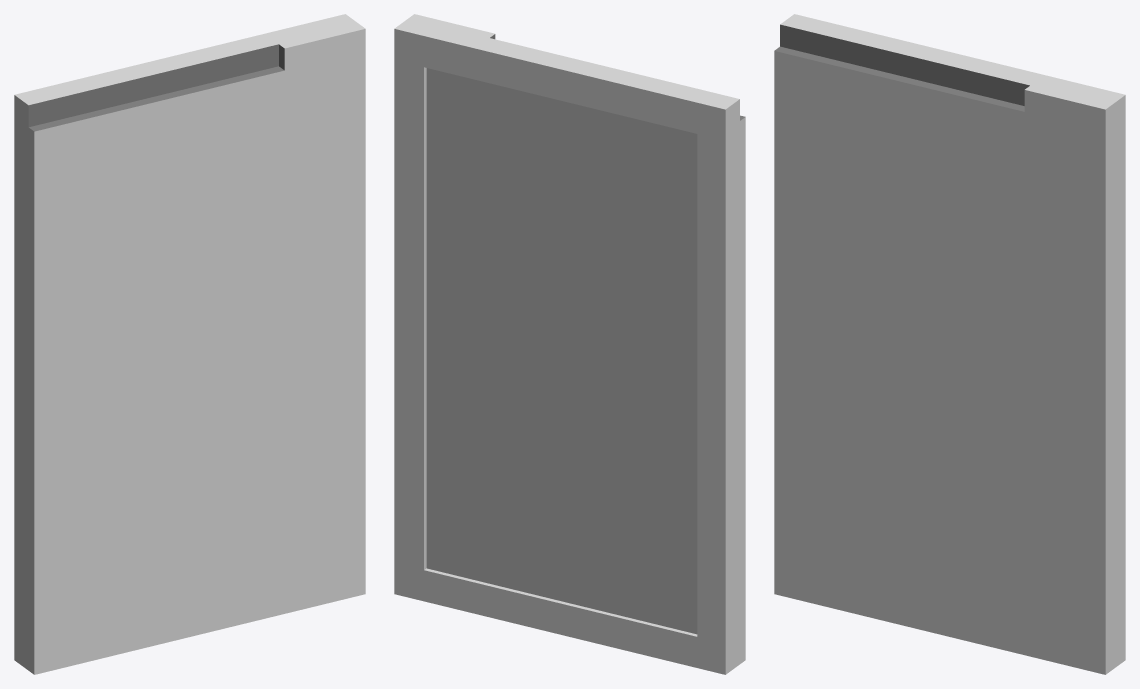
Rendered from Refrigerator3_C1_09.fbx.
3 renders of one model, left to right at view 1: azimuth 30°, elevation 25°; view 2: azimuth 150°, elevation 25°; view 3: azimuth 330°, elevation 25°, orthographic.
Parts seen in each view (by area): view 1: Refrigerator3_C1_09; view 2: Refrigerator3_C1_09; view 3: Refrigerator3_C1_09.
Boxes of the visible parts, x1,y1,x2,y2 form: Refrigerator3_C1_09: [14, 14, 365, 674]; Refrigerator3_C1_09: [394, 14, 745, 674]; Refrigerator3_C1_09: [774, 14, 1125, 674].
Size of the model in its own units: 47.38 by 77.27 by 5.
